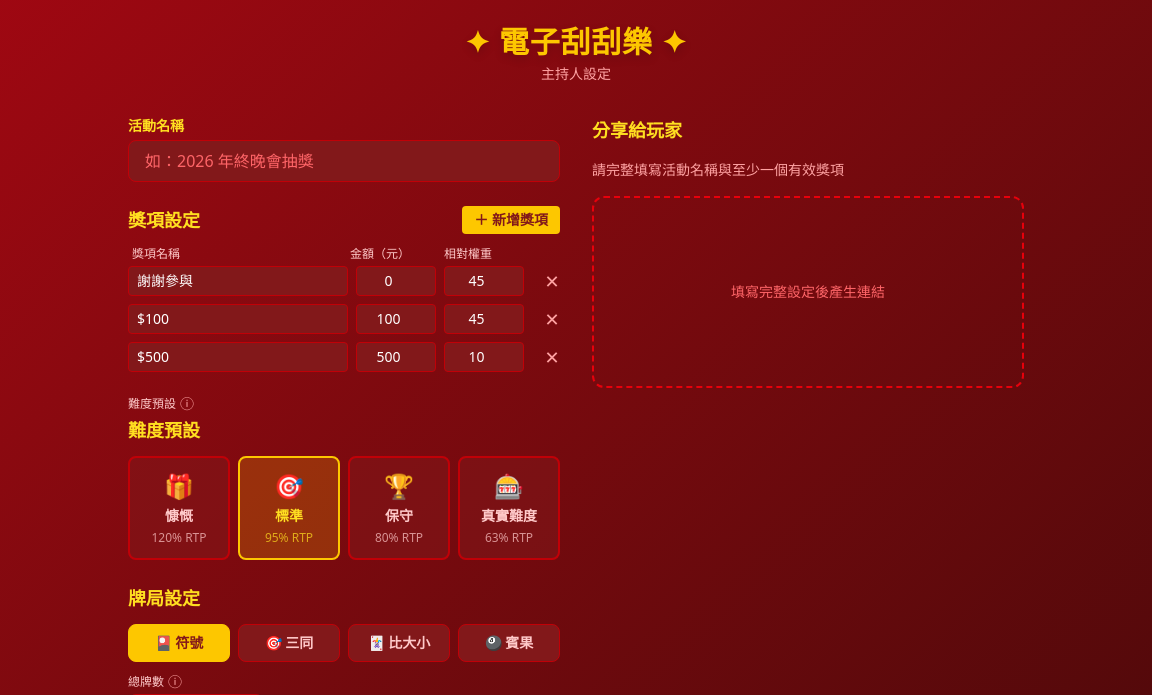
it: HostPage › 選擇賓果玩法後應顯示每線獎金輸入框
Click the radio button labelled "🎱 賓果": (509, 643) [458,624,560,662]
(page scrolled)
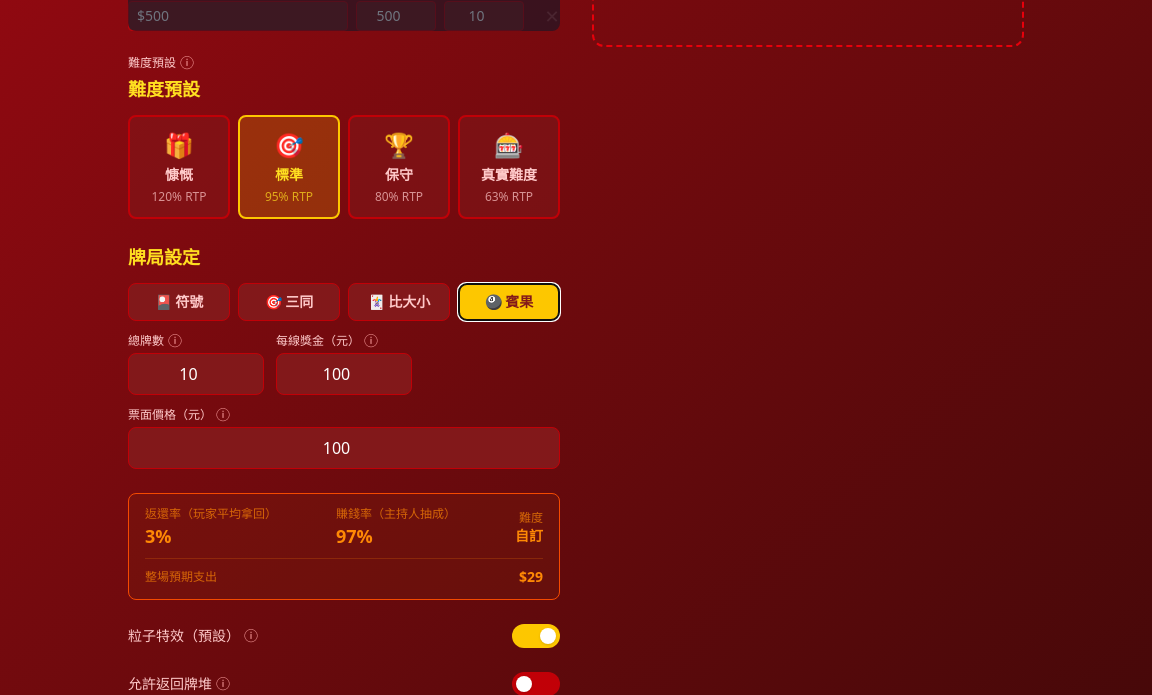
Now the number field labelled "每線獎金" is shown, box [276,353,412,395]
